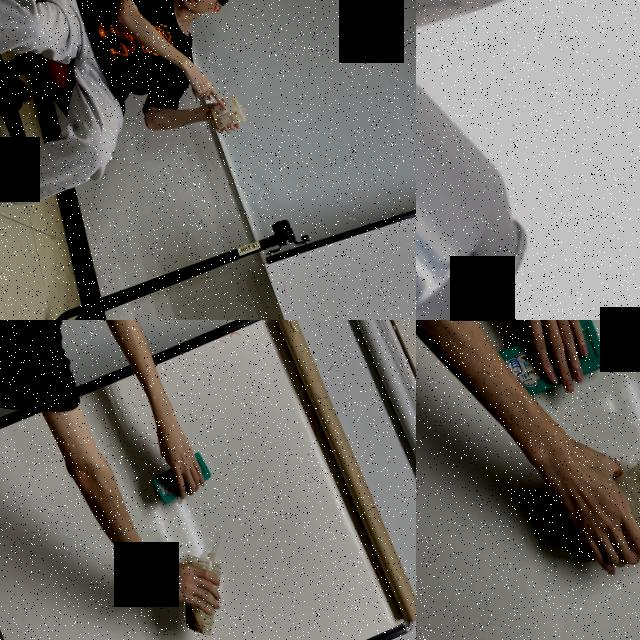can: (416, 0, 555, 320), (416, 0, 612, 79)
cup: (546, 451, 640, 583), (159, 541, 245, 640), (200, 90, 250, 136)
